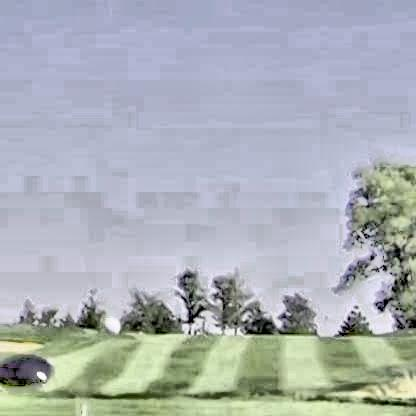golfball: (99, 314, 119, 335)
